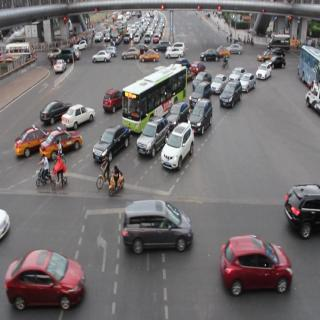BigCar: (124, 68, 186, 119)
Car: (218, 230, 292, 306), (3, 248, 85, 313), (118, 202, 202, 264), (35, 127, 82, 166), (97, 118, 131, 162), (167, 121, 195, 171), (187, 97, 215, 142), (221, 74, 244, 122), (139, 115, 160, 164), (19, 116, 41, 160), (64, 102, 93, 134), (197, 40, 223, 70), (41, 93, 66, 124), (92, 48, 116, 71), (119, 46, 144, 64), (141, 47, 161, 67), (258, 59, 272, 84), (167, 49, 184, 60)
